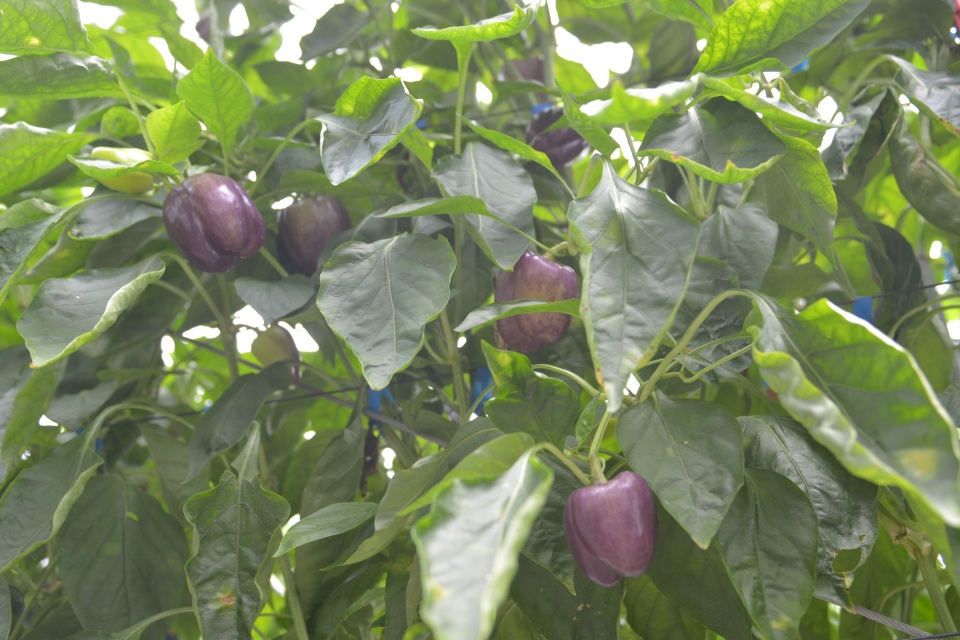fruit: (561, 467, 661, 588), (161, 170, 267, 275), (492, 247, 579, 356), (275, 190, 352, 278), (521, 104, 592, 171), (501, 55, 546, 108)
immature: (89, 144, 157, 195), (250, 321, 303, 386)
